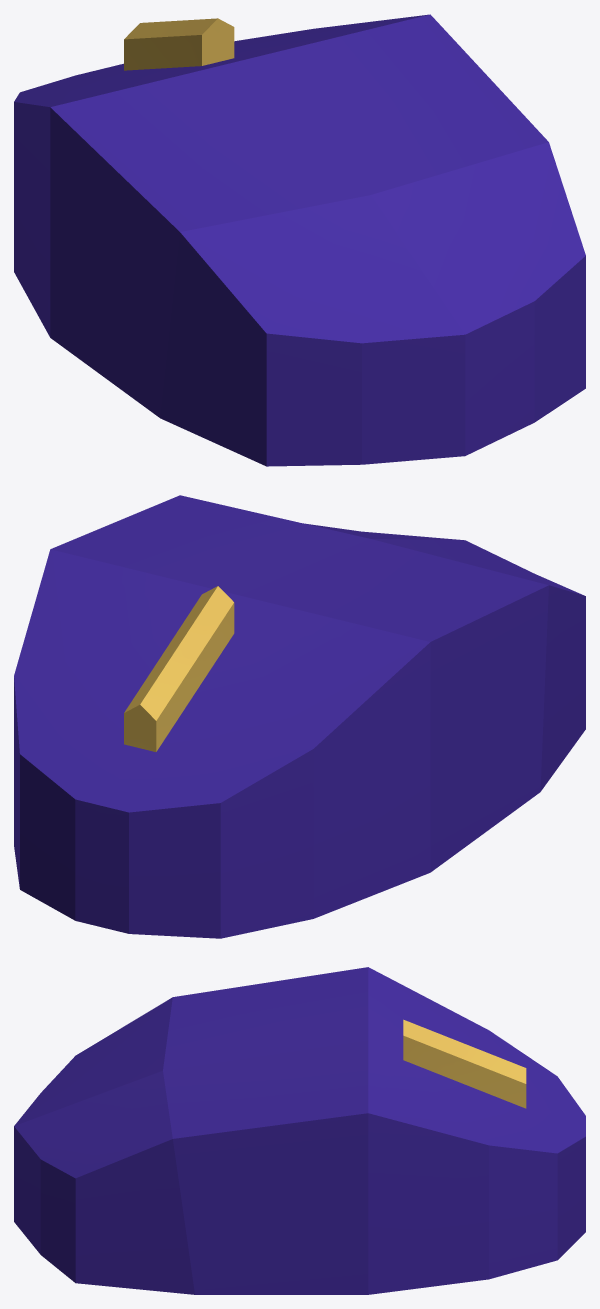
The model's file is sp_computer_mouse_a.fbx.
3 views of the same model, one above another, from view 1: azimuth 30°, elevation 25°; view 2: azimuth 150°, elevation 25°; view 3: azimuth 270°, elevation 25° (orthographic). The views are drawn at different scales.
Visible parts, largest first — view 1: sp_computer_mouse_a; view 2: sp_computer_mouse_a; view 3: sp_computer_mouse_a.
Boxes of the visible parts, x1,y1,x2,y2 form: sp_computer_mouse_a: (14, 14, 585, 466); sp_computer_mouse_a: (14, 495, 585, 938); sp_computer_mouse_a: (14, 967, 585, 1294).
Bounding box in the file's own units: 12.58 × 8.12 × 20.8.
